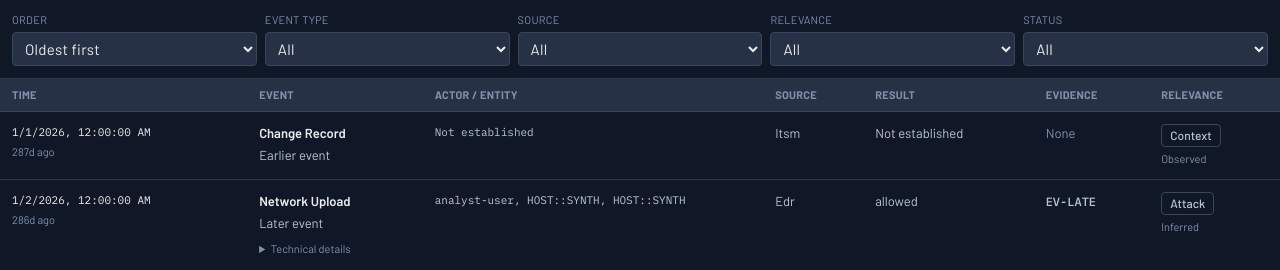
Test case: TimelineTable › sorts, filters, links evidence, and exposes technical details
Expected: the text "Earlier event" is shown, [259, 147, 330, 163]
Select "Newest first" in the dropdown named "Timeline order" at {"x": 134, "y": 49}, box [12, 32, 257, 66]
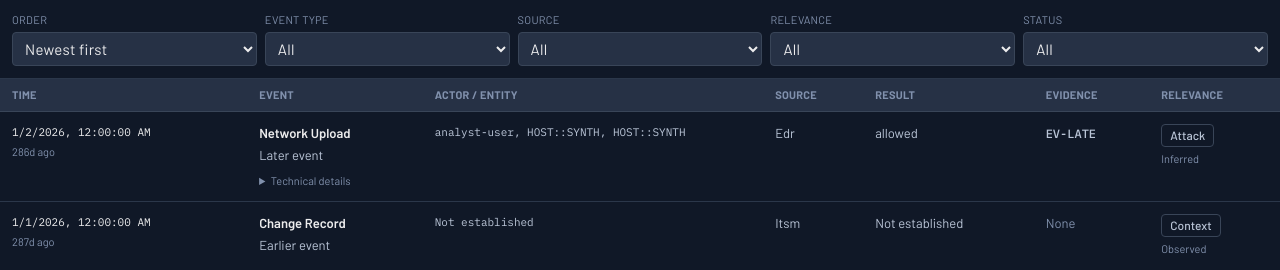
Expected: the text "Later event" is shown, [259, 147, 323, 163]
Select "Itsm" in the dropdown named "Filter by source" at {"x": 640, "y": 49}, box [518, 32, 762, 66]
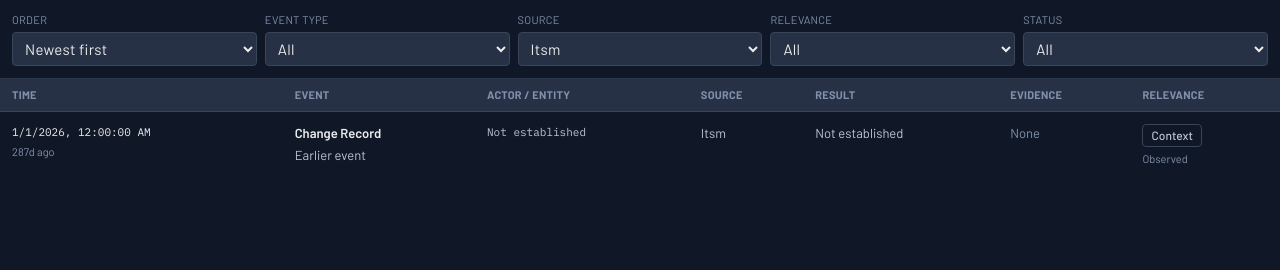
Expected: the text "Earlier event" is shown, [295, 147, 366, 163]
Result: the text "Later event" is gone
